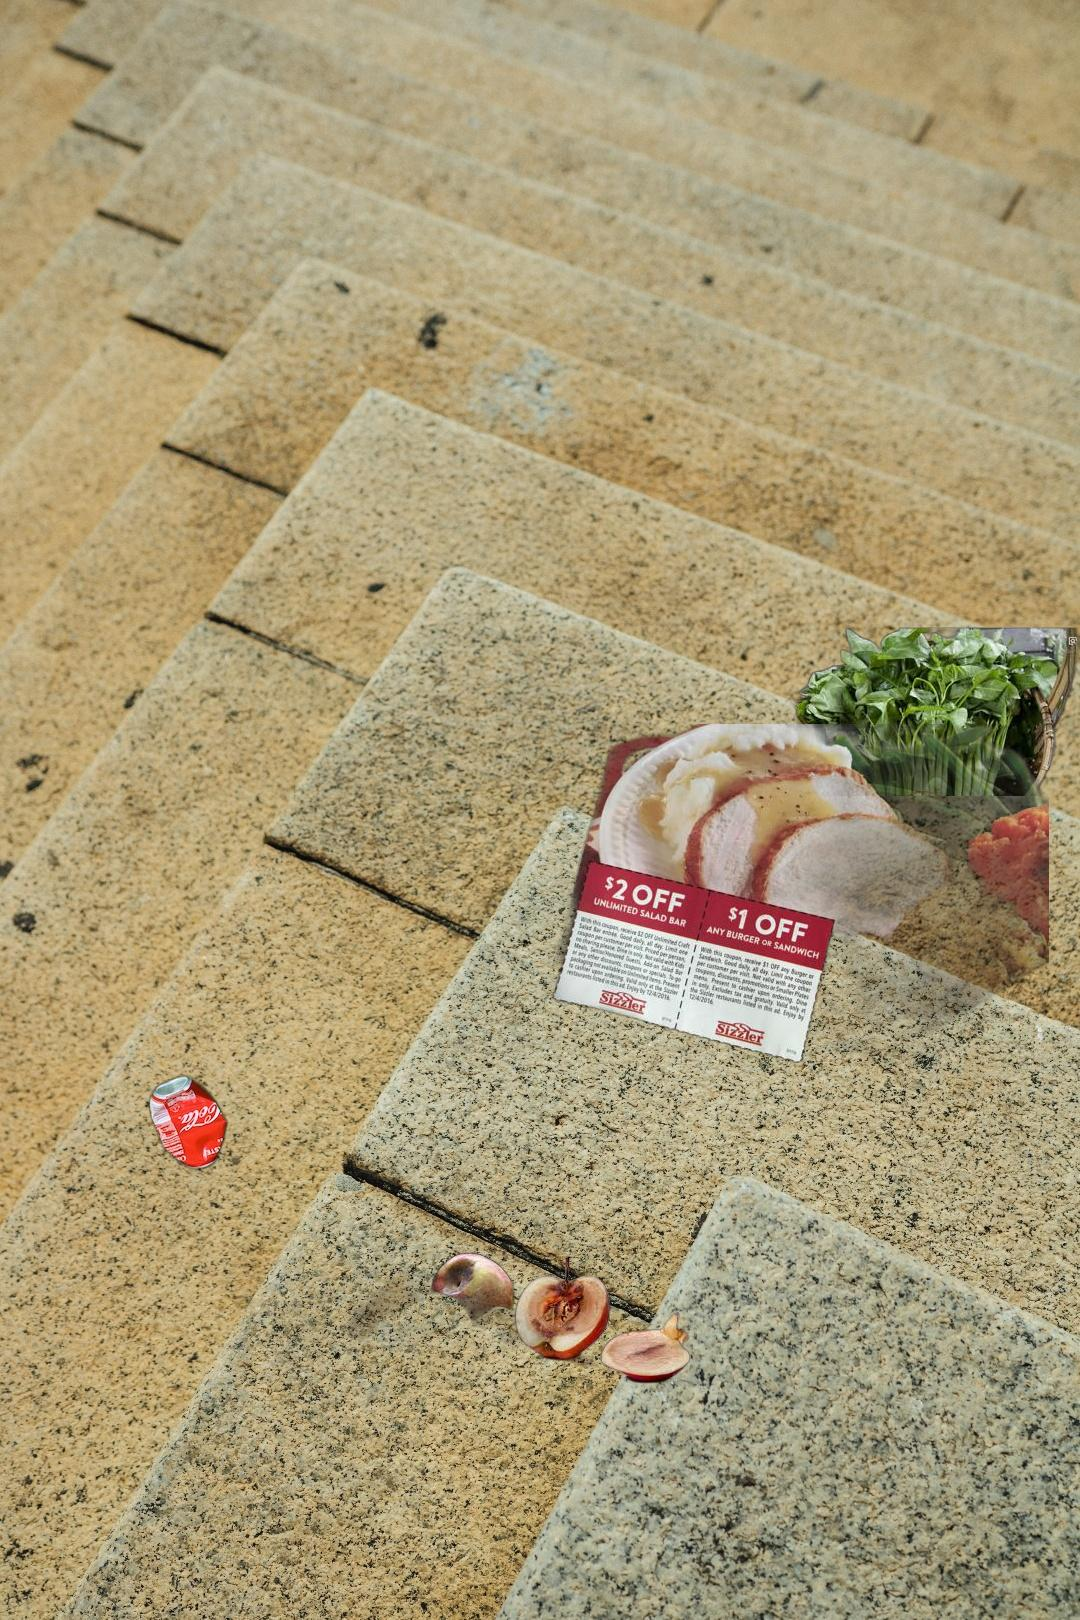battery: (598, 841, 780, 932)
biological: (785, 627, 1080, 796), (315, 1213, 603, 1351), (512, 1250, 693, 1386)
metal-cans: (143, 683, 312, 1174)
paper: (538, 724, 1049, 1108)
